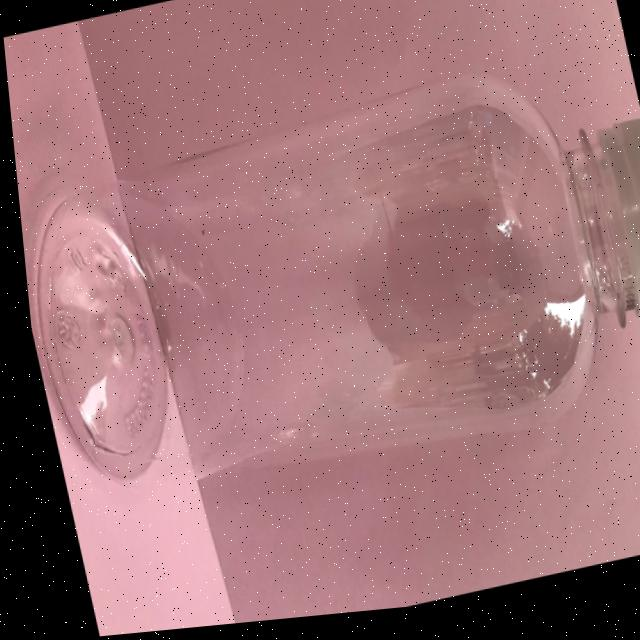bottle: (7, 41, 640, 540)
